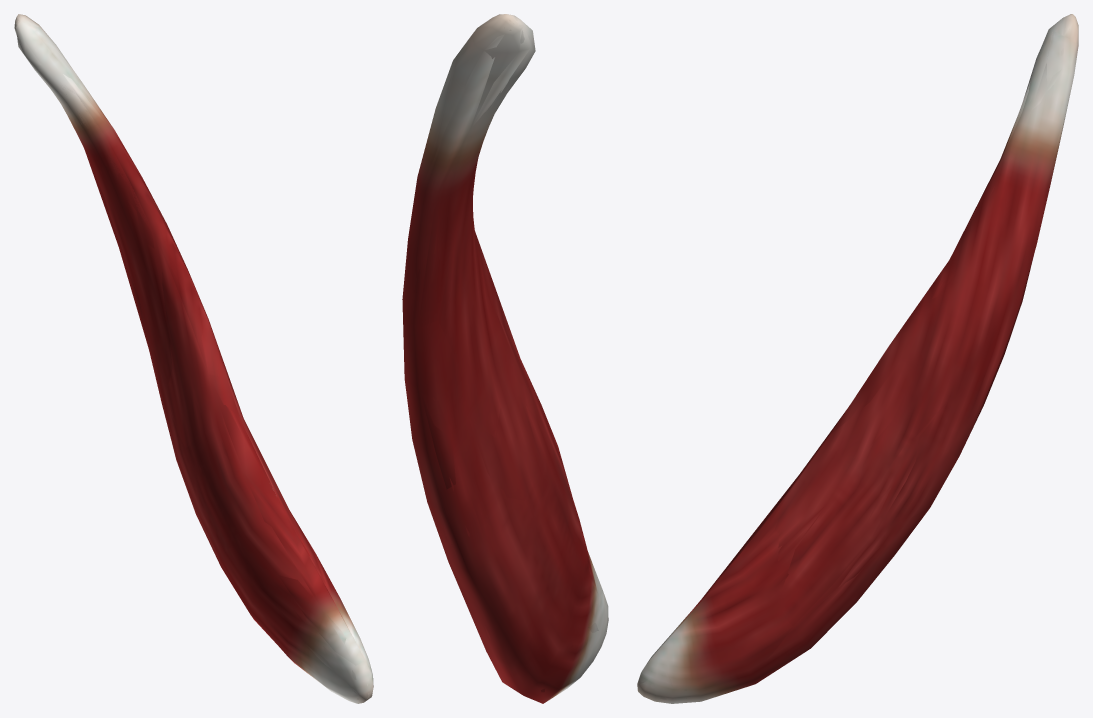
File: L Adductor.fbx
3 renders of one model, left to right at view 1: azimuth 30°, elevation 25°; view 2: azimuth 150°, elevation 25°; view 3: azimuth 270°, elevation 25°, orthographic. The views are drawn at different scales.
Visible parts, largest first — view 1: L Adductor, L Adductor low, L Adductor high; view 2: L Adductor, L Adductor low, L Adductor high; view 3: L Adductor, L Adductor low, L Adductor high.
Boxes of the visible parts, x1=… form: L Adductor: x1=14, y1=14, x2=373, y2=703; L Adductor low: x1=16, y1=15, x2=372, y2=698; L Adductor high: x1=16, y1=18, x2=369, y2=699; L Adductor: x1=402, y1=14, x2=608, y2=703; L Adductor low: x1=403, y1=14, x2=606, y2=699; L Adductor high: x1=411, y1=18, x2=606, y2=692; L Adductor: x1=637, y1=14, x2=1078, y2=703; L Adductor low: x1=637, y1=15, x2=1076, y2=703; L Adductor high: x1=650, y1=21, x2=1075, y2=699.
Size of the model in its own units: 2.18 by 7.27 by 4.71.
